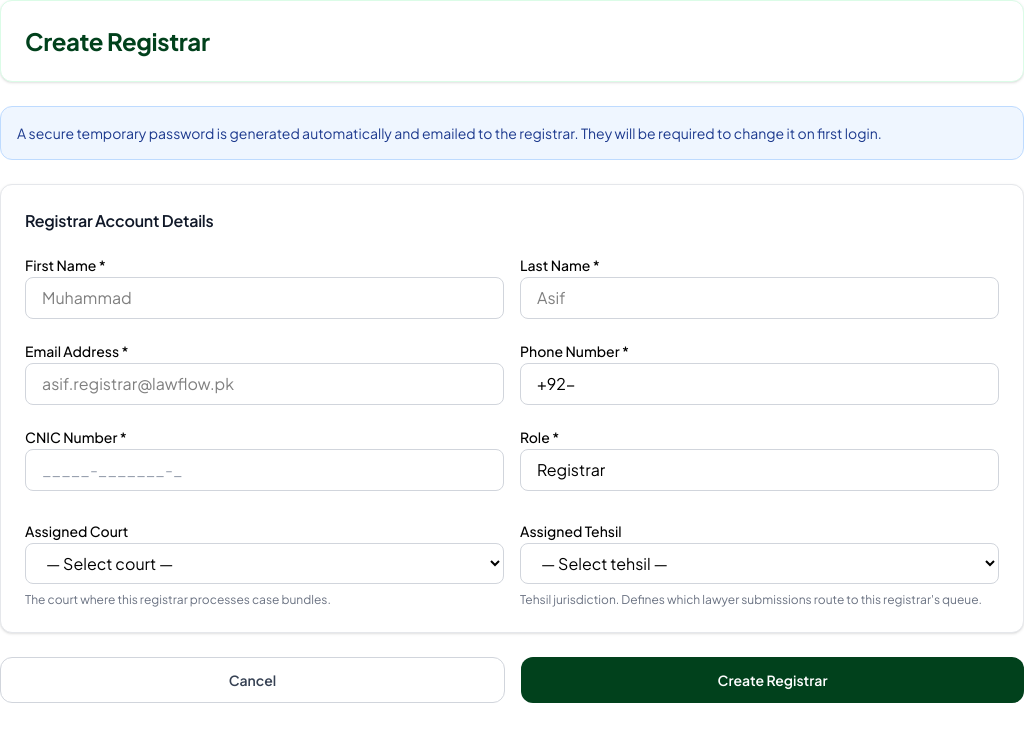
Test: RegistrarForm › rejects a malformed phone number
The image size is (1024, 736).
Type "Sana" into the field with placeholder "Muhammad" at [264, 298], box [25, 277, 504, 319]
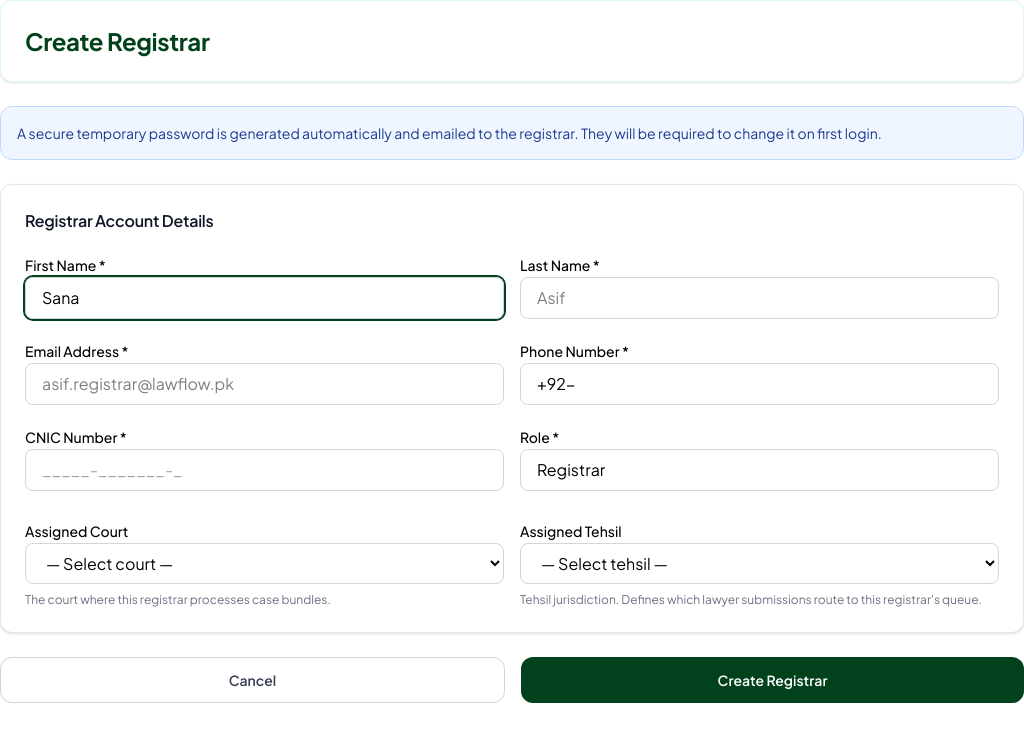
Type "Iqbal" into the field with placeholder "Asif" at [760, 298], box [520, 277, 999, 319]
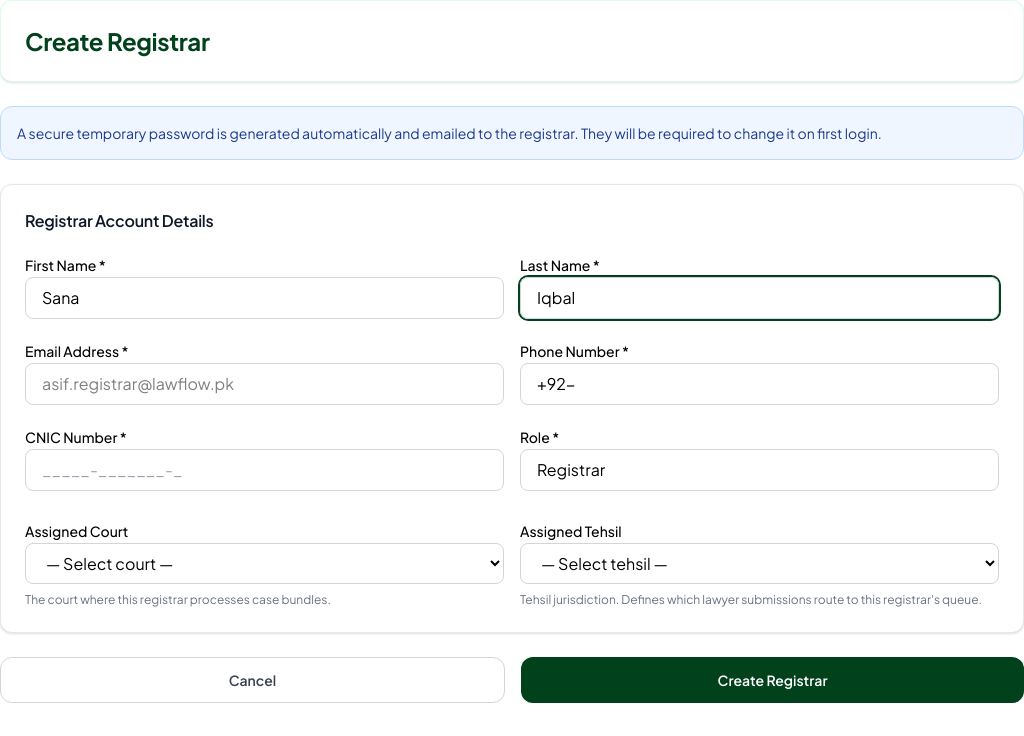
Type "sana@lawflow.pk" into the field with placeholder "asif.registrar@lawflow.pk" at [264, 384], box [25, 363, 504, 405]
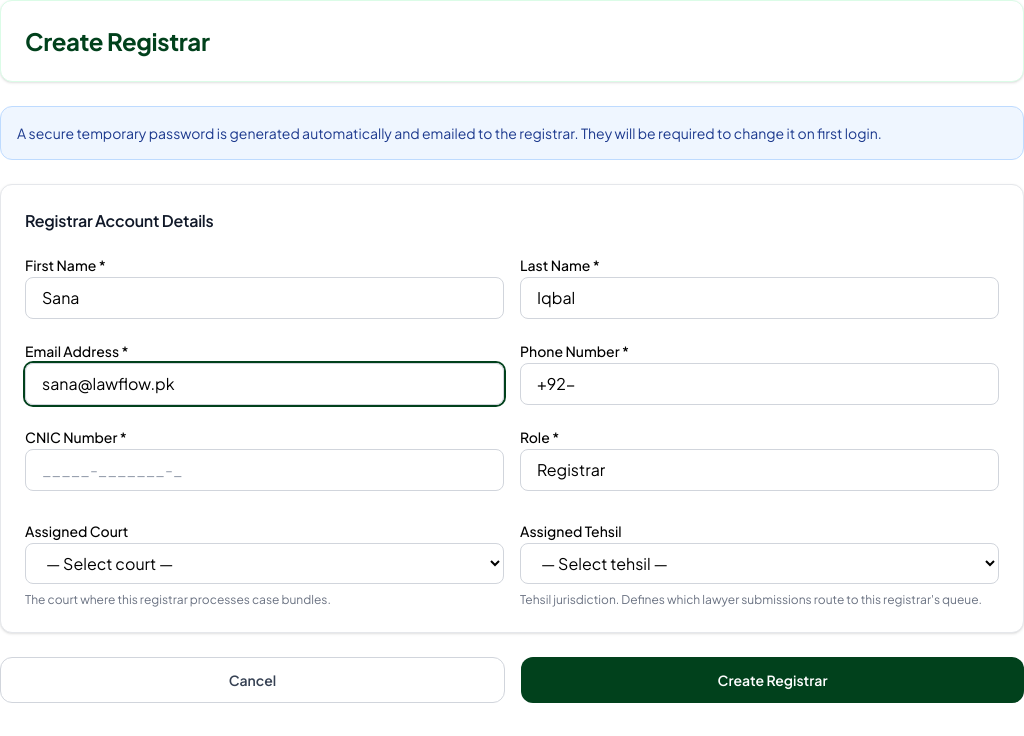
Type "0300" into the field with placeholder "+92 300 1234567" below "Phone Number *" at [760, 384], box [520, 363, 999, 405]
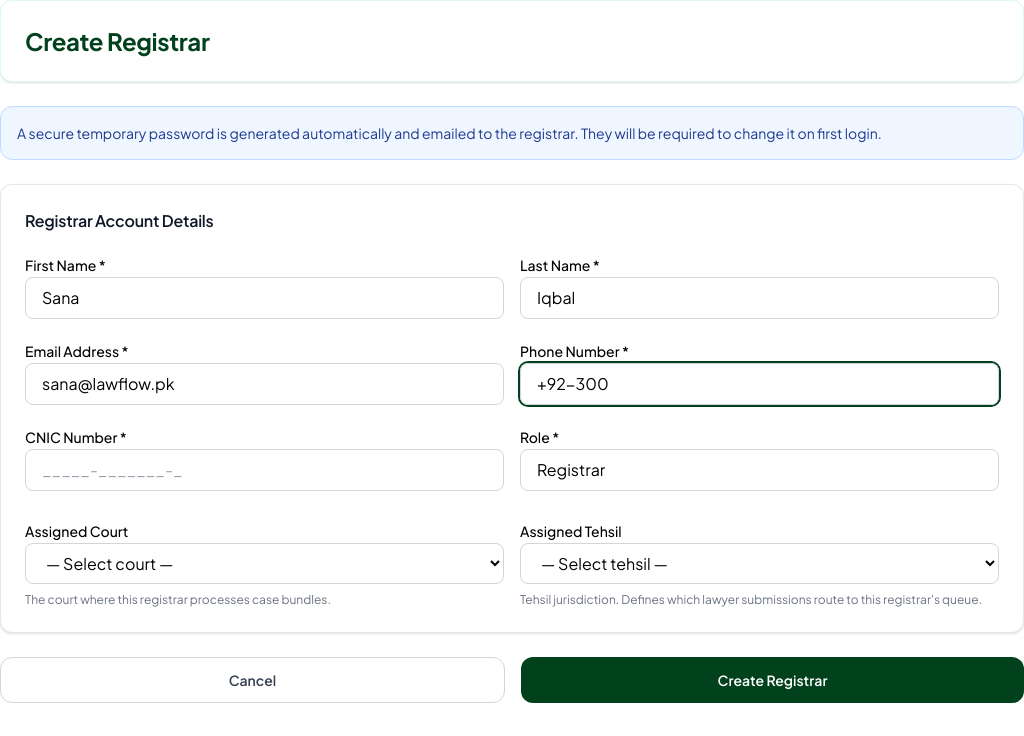
Click the button "Create Registrar" at [772, 680], box [521, 657, 1023, 703]
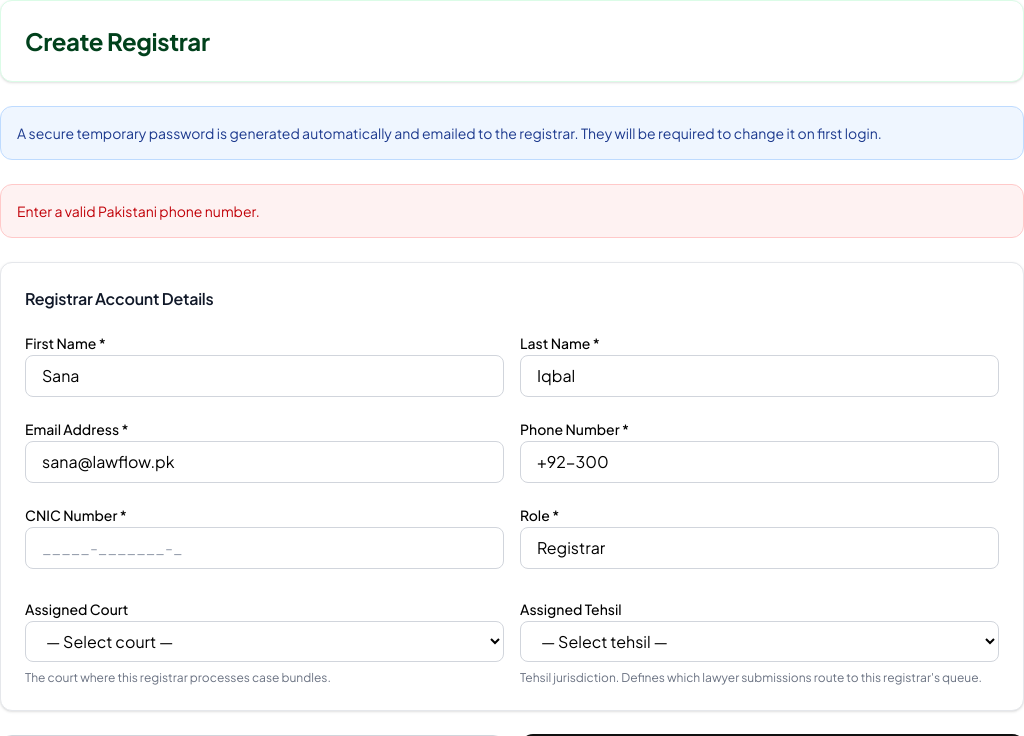
Now the text "Enter a valid Pakistani phone number." is shown, box [0, 184, 1023, 238]
